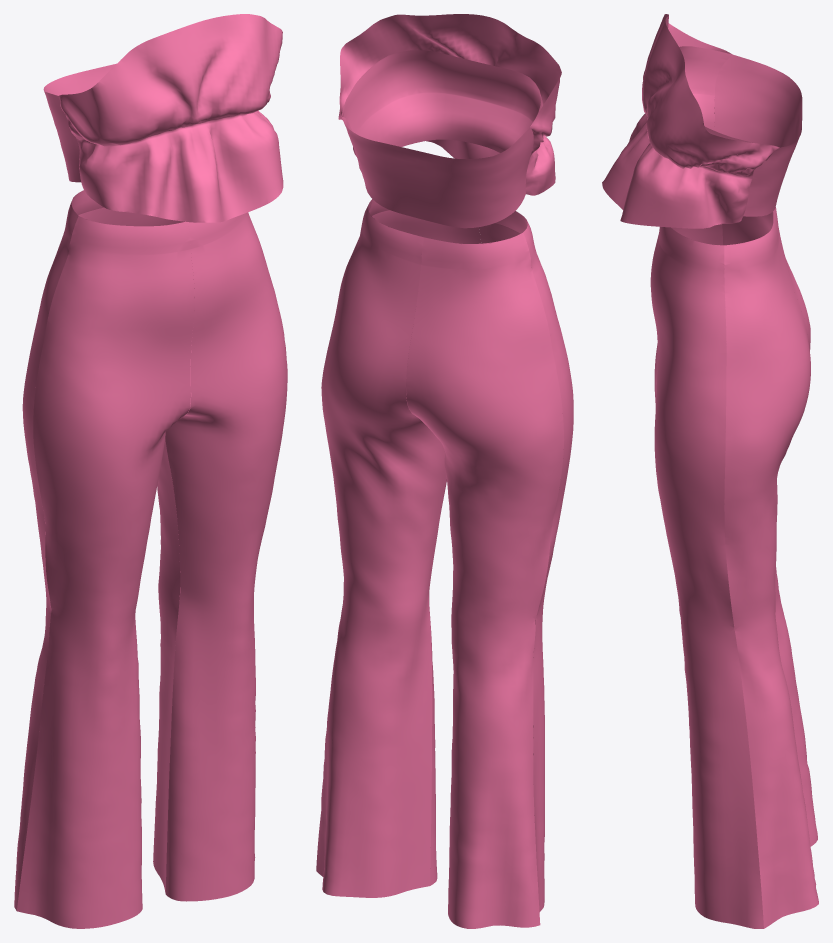
File: 17_SHREYA_AGARWAL_F.fbx
3 renders of one model, left to right at view 1: azimuth 30°, elevation 25°; view 2: azimuth 150°, elevation 25°; view 3: azimuth 270°, elevation 25°, orthographic. The views are drawn at different scales.
Visible parts, largest first — view 1: 17_SHREYA_AGARWAL_F; view 2: 17_SHREYA_AGARWAL_F; view 3: 17_SHREYA_AGARWAL_F.
Part boxes in pixels (bbox=[...]): 17_SHREYA_AGARWAL_F: bbox=[14, 14, 287, 928]; 17_SHREYA_AGARWAL_F: bbox=[316, 14, 573, 928]; 17_SHREYA_AGARWAL_F: bbox=[602, 14, 818, 928].
Bounding box in the file's own units: 0.3767 × 1.32 × 0.3049.
